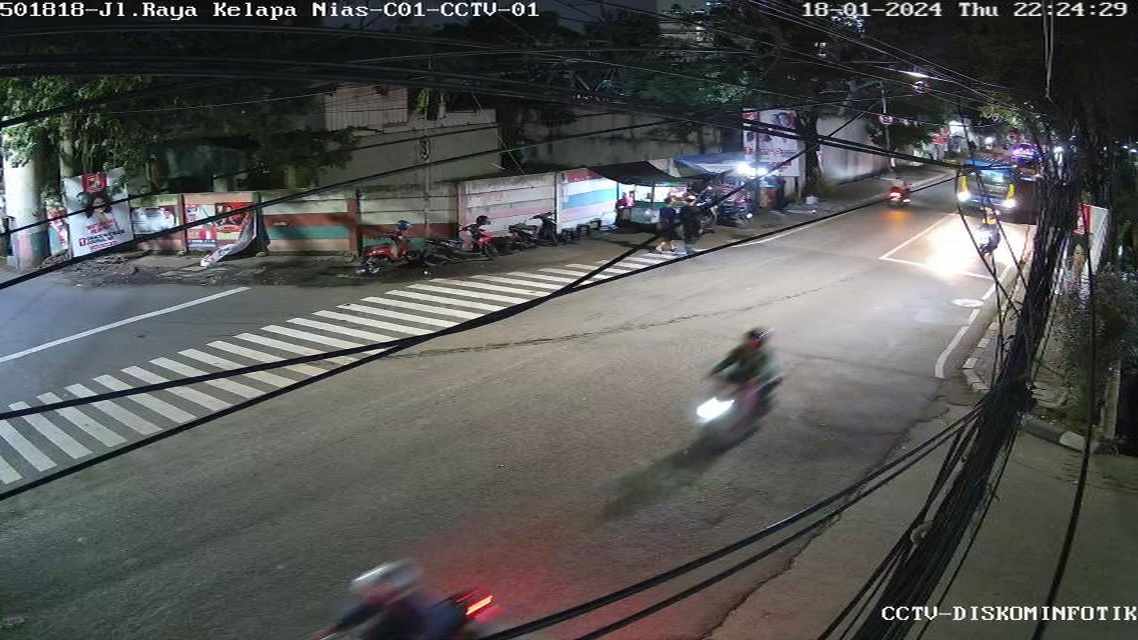Gerobak: (624, 184, 692, 226)
